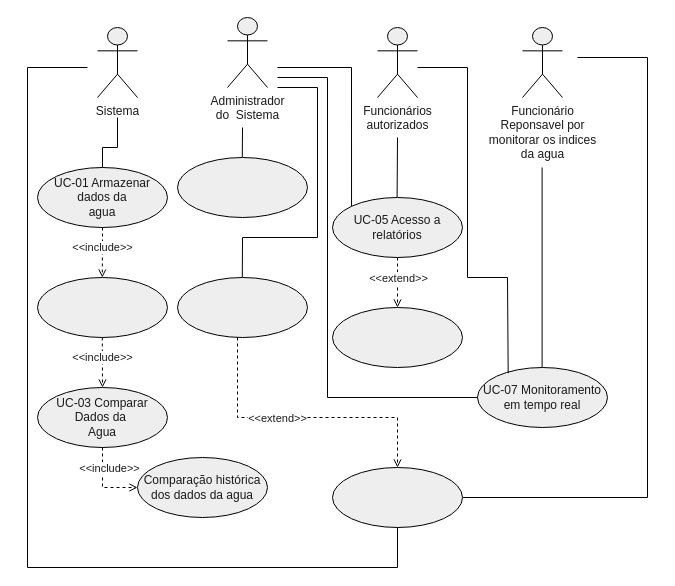
Image size: 675x586. Some labels were removed from this diagram. The shapes that lost their labels are listed below. From the top down, each one's centre as x and y in pixels, then its label:
point (242, 187): UC-08 Gerenciar usuários e permissões
point (102, 307): UC-02 Analisar dados da agua
point (242, 307): UC-06 Configurar Parâmetros de alerta
point (397, 337): UC-09 Exportar dados de relatório
point (397, 497): UC-04 Gerar alertas
